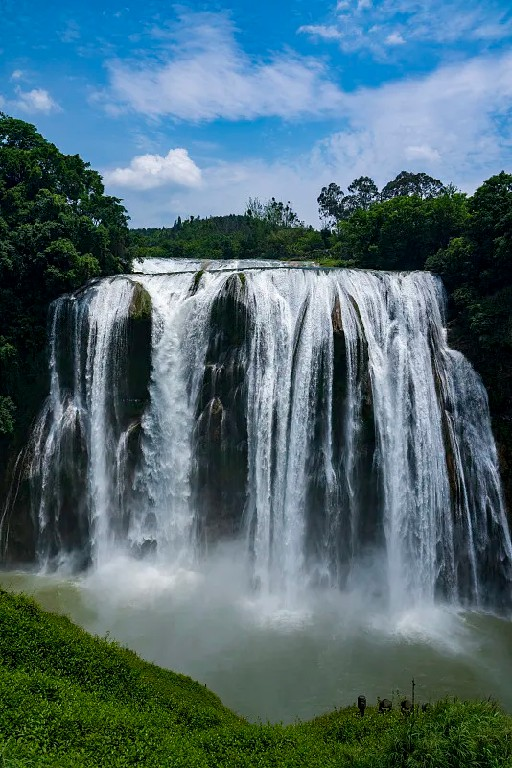Huangguoshu: (34, 259, 512, 608)
